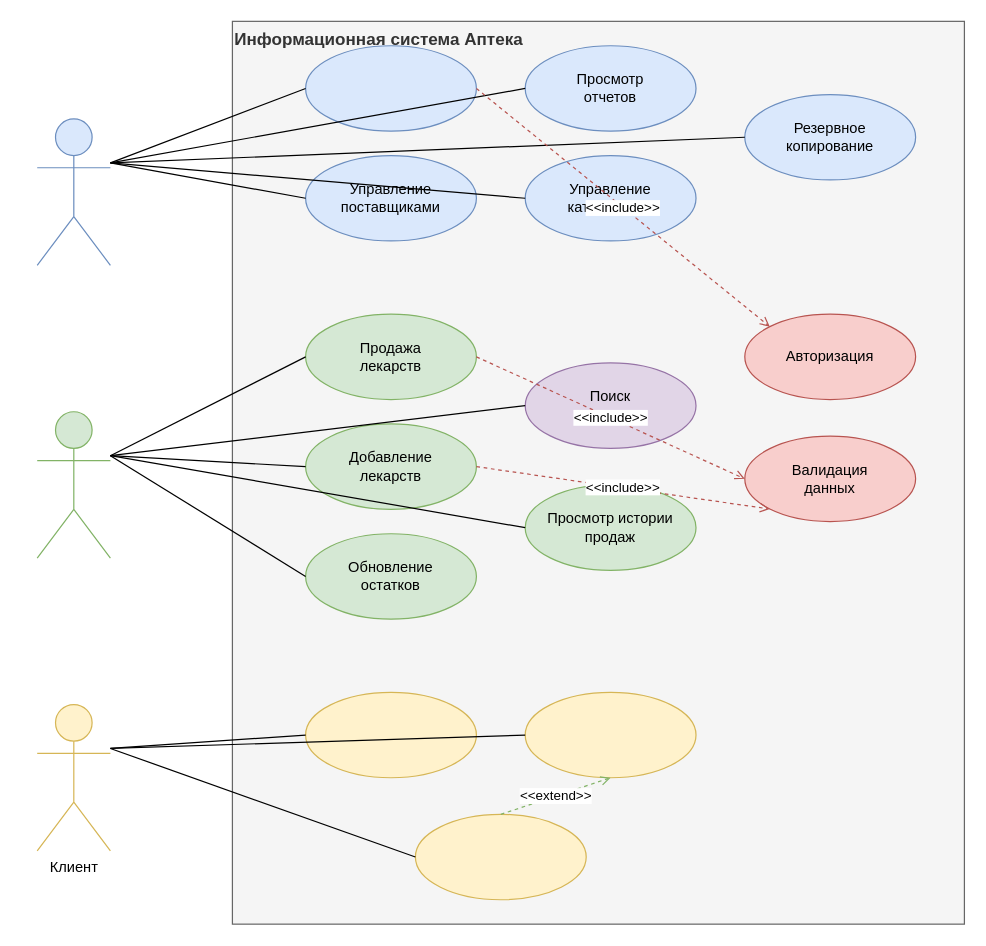
Some shapes in this 986 by 946 pixel diagram are drawn without their labels. Here are the shapes that lost their labels. From the top down, the centre of each, then its label:
[390,88]: Управление пользователями
[73,191]: Администратор
[73,484]: Фармацевт
[390,734]: Просмотр каталога
[610,734]: Просмотр информации
[500,856]: Поиск по каталогу
